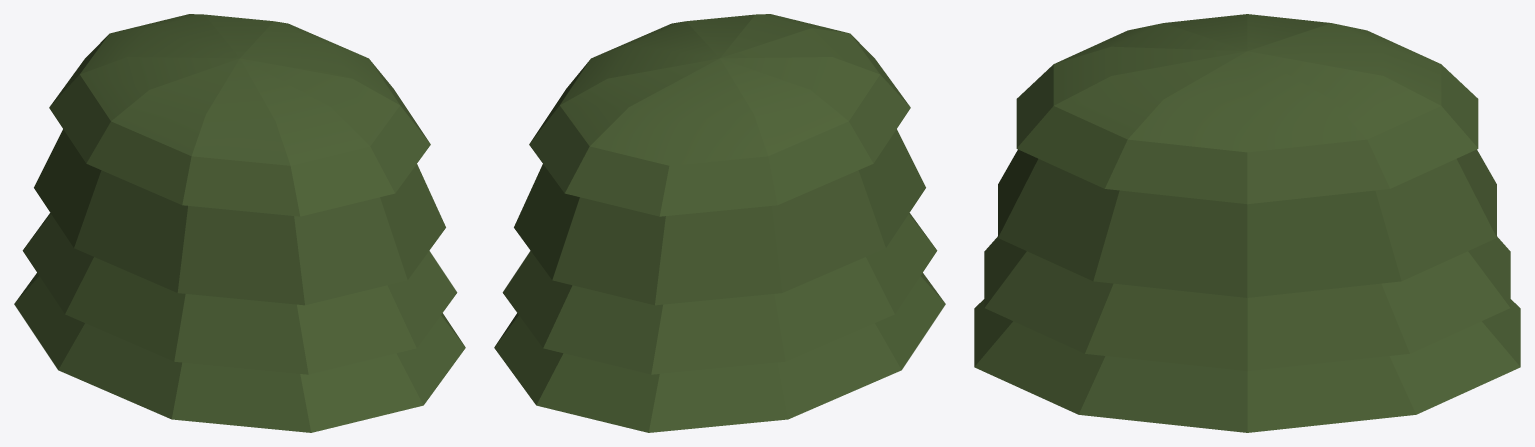
File: Proto_Bush_02.fbx
3 renders of one model, left to right at view 1: azimuth 30°, elevation 25°; view 2: azimuth 150°, elevation 25°; view 3: azimuth 270°, elevation 25°, orthographic. The views are drawn at different scales.
Parts seen in each view (by area): view 1: polySurface1267; view 2: polySurface1267; view 3: polySurface1267.
Boxes of the visible parts, bbox=[...] form: polySurface1267: bbox=[14, 14, 465, 432]; polySurface1267: bbox=[494, 14, 945, 432]; polySurface1267: bbox=[974, 14, 1520, 432].
Bounding box in the file's own units: 16.31 × 11.47 × 19.81.
